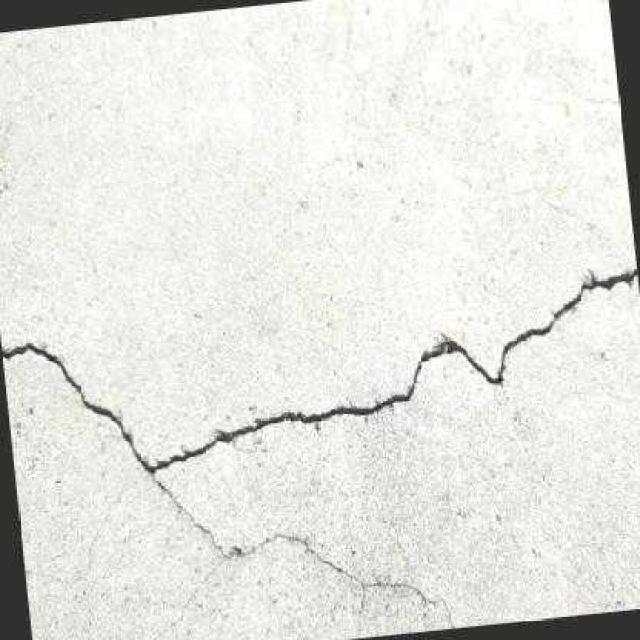D00: (1, 267, 638, 477), (150, 480, 461, 628)
